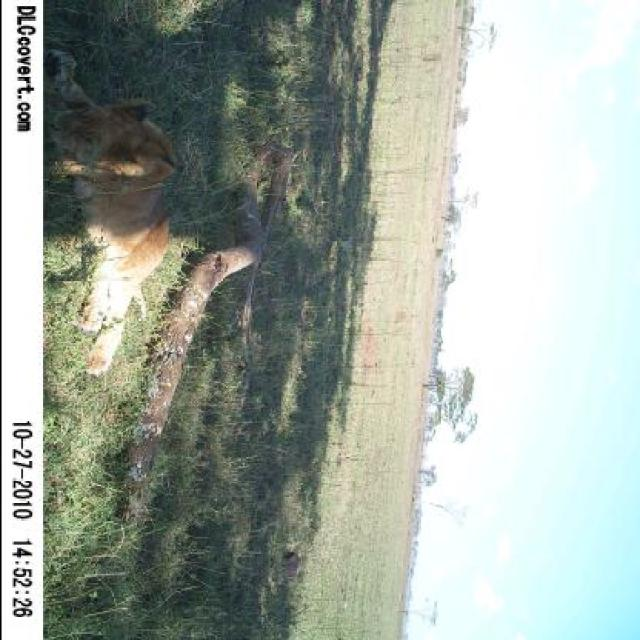Lion: (45, 28, 186, 409)
